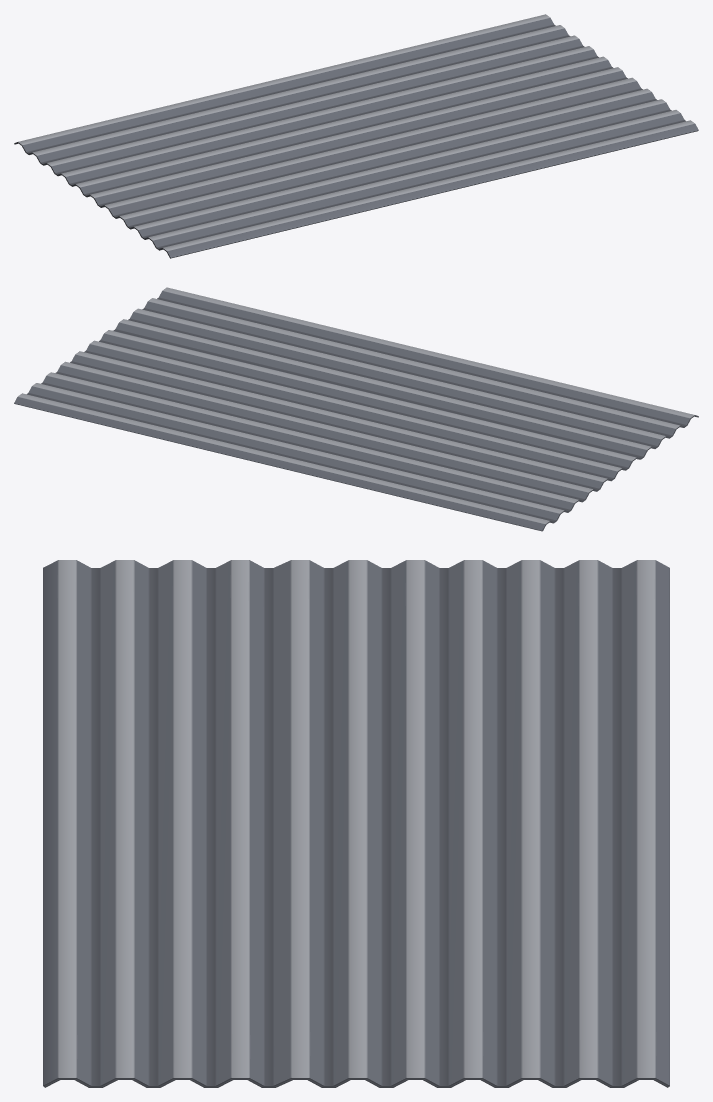
Rendered from Prop_Megatejado.fbx.
The picture shows the model from 3 angles, top to bottom: view 1: azimuth 30°, elevation 25°; view 2: azimuth 150°, elevation 25°; view 3: azimuth 270°, elevation 25°; orthographic projection. The views are drawn at different scales.
Visible parts, largest first — view 1: GPencil.003; view 2: GPencil.003; view 3: GPencil.003.
Part boxes in pixels (x1,y1,x2,y2): GPencil.003: [14, 14, 698, 258]; GPencil.003: [14, 287, 698, 531]; GPencil.003: [43, 560, 669, 1087].
Size of the model in its own units: 23.61 by 0.2675 by 12.14.
